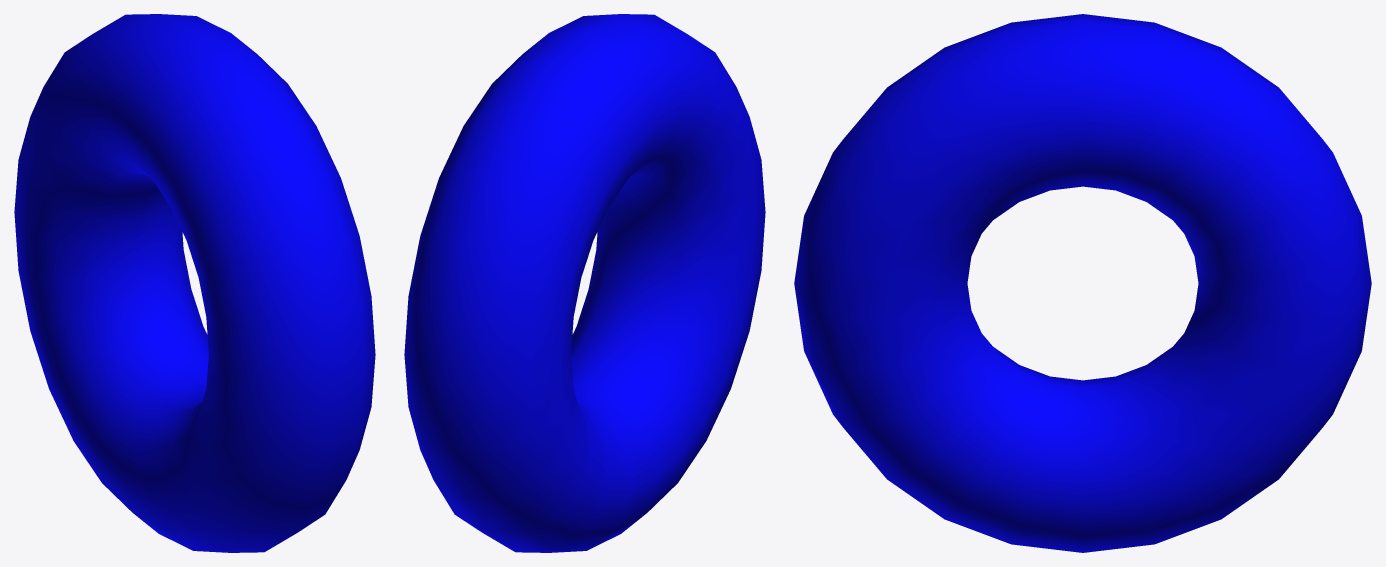
The picture shows the model from 3 angles, left to right: view 1: azimuth 30°, elevation 25°; view 2: azimuth 150°, elevation 25°; view 3: azimuth 270°, elevation 25°; orthographic projection. The views are drawn at different scales.
Visible parts, largest first — view 1: Torus001; view 2: Torus001; view 3: Torus001.
Part boxes in pixels (bbox=[...]): Torus001: bbox=[14, 14, 375, 552]; Torus001: bbox=[404, 14, 765, 552]; Torus001: bbox=[794, 14, 1371, 552].
Bounding box in the file's own units: 6 × 20 × 20.
